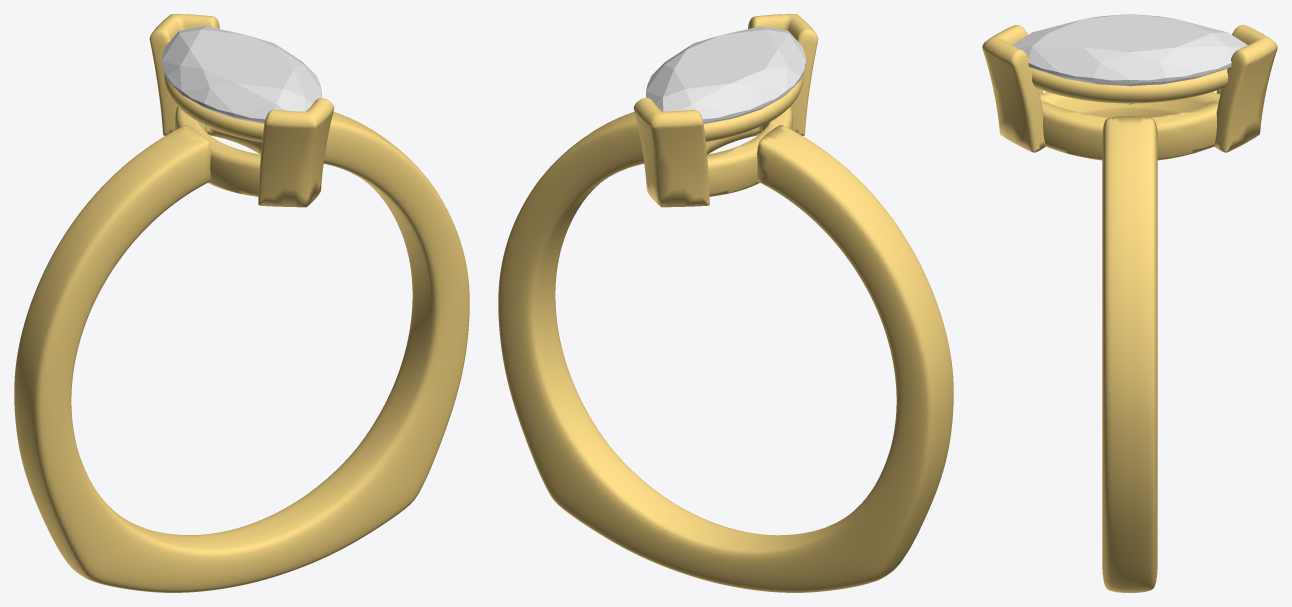
The model's file is diamond-marquise-yellowgold-protectededges2prongs-europeanshank-nosidestones.glb.
3 views of the same model, side by side, from view 1: azimuth 30°, elevation 25°; view 2: azimuth 150°, elevation 25°; view 3: azimuth 270°, elevation 25° (orthographic).
Parts seen in each view (by area): view 1: metal, stone; view 2: metal, stone; view 3: metal, stone.
Boxes of the visible parts, x1,y1,x2,y2 form: metal: (14, 14, 469, 592); stone: (162, 26, 321, 123); metal: (498, 14, 953, 592); stone: (646, 26, 805, 123); metal: (982, 25, 1277, 592); stone: (1012, 14, 1247, 104).
Size of the model in its own units: 20.11 by 22.73 by 11.69.
